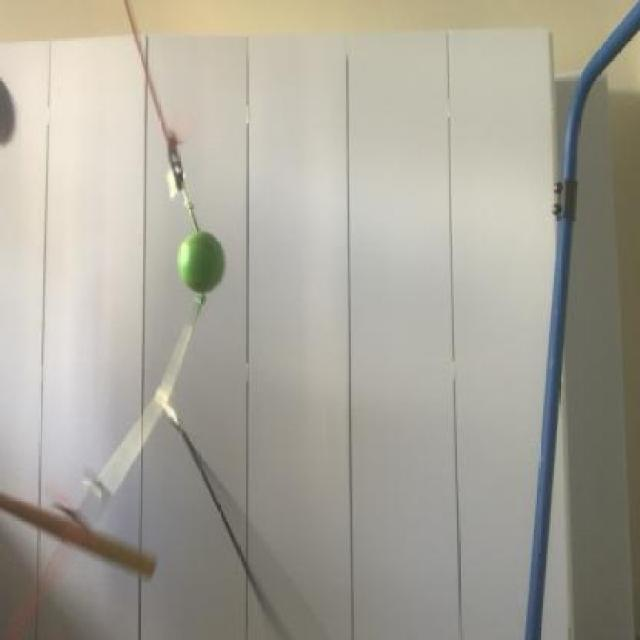baseball: (171, 228, 232, 297)
